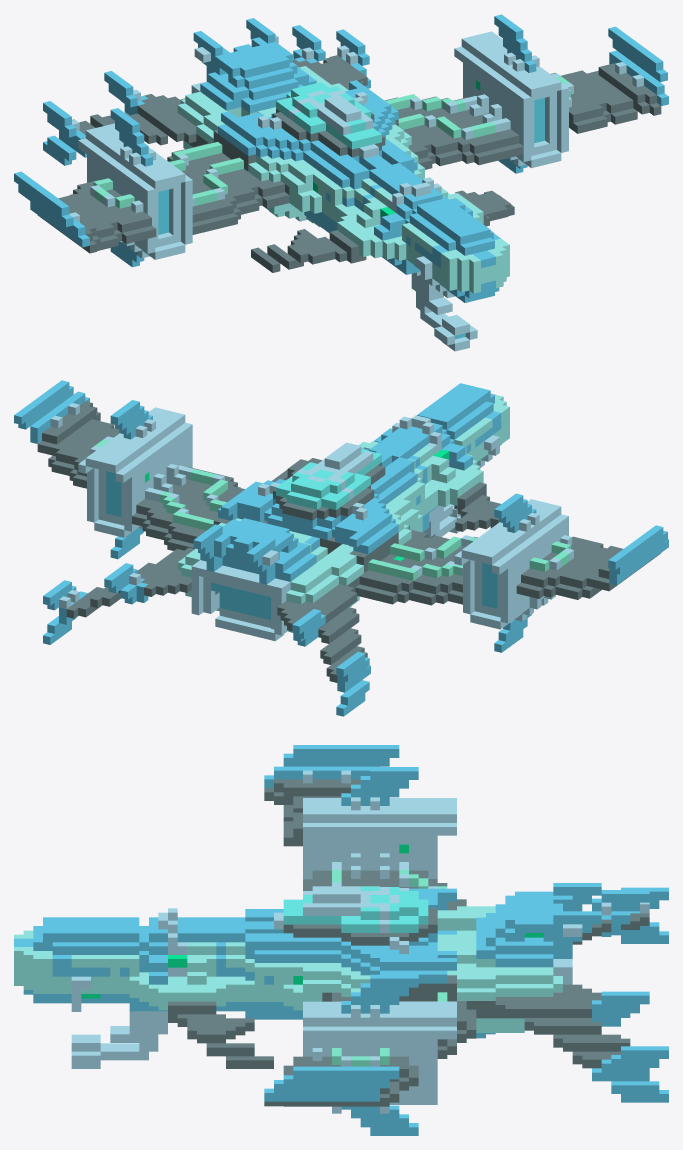
Rendered from Ship.fbx.
3 views of the same model, one above another, from view 1: azimuth 30°, elevation 25°; view 2: azimuth 150°, elevation 25°; view 3: azimuth 270°, elevation 25° (orthographic). The views are drawn at different scales.
Parts seen in each view (by area): view 1: Ship; view 2: Ship; view 3: Ship.
Boxes of the visible parts, <box> form: Ship: <box>14,14,668,351</box>; Ship: <box>14,380,668,716</box>; Ship: <box>14,745,668,1135</box>.
Size of the model in its own units: 800 by 220 by 680.
1 material, 1 textured.
